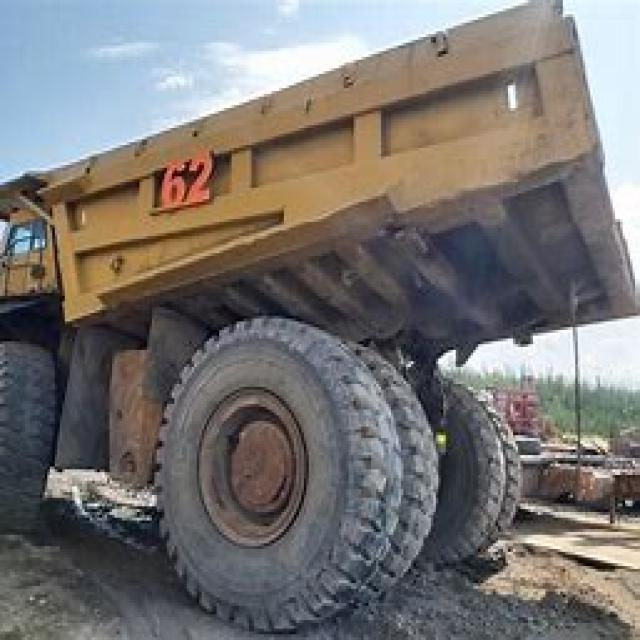dump_truck: (10, 9, 637, 617)
